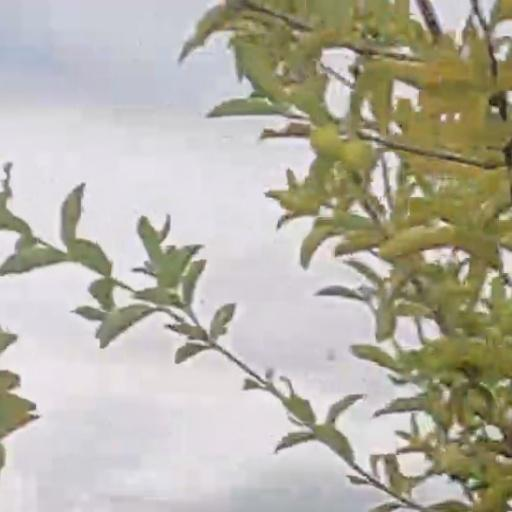acerola: (312, 123, 342, 157), (342, 142, 374, 171)
